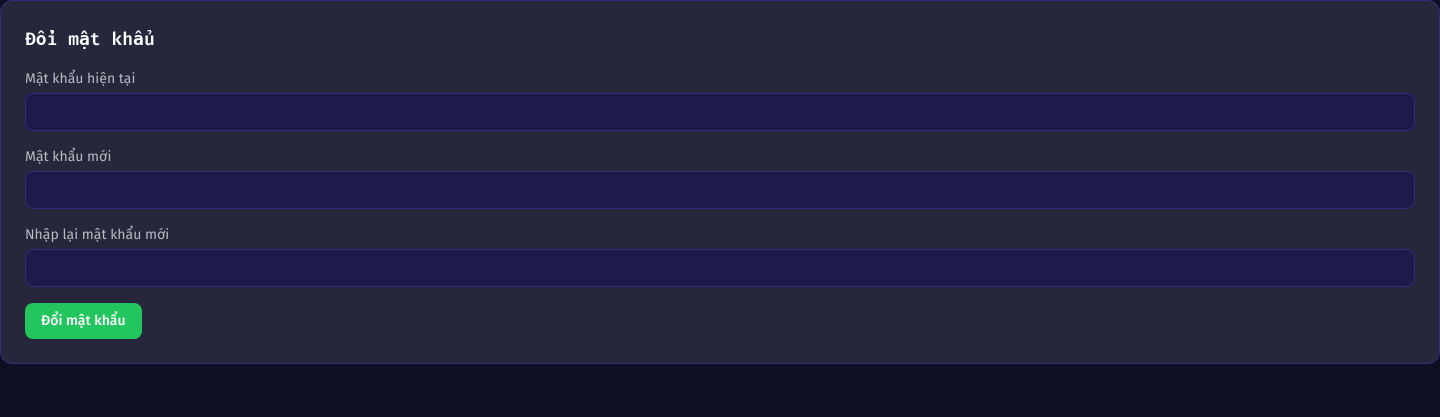
Scenario: PasswordSection › shows the server message for other errors
Type "mat-khau-cu" into the password field labelled "Mật khẩu hiện tại" at (720, 112), box [25,93,1415,131]
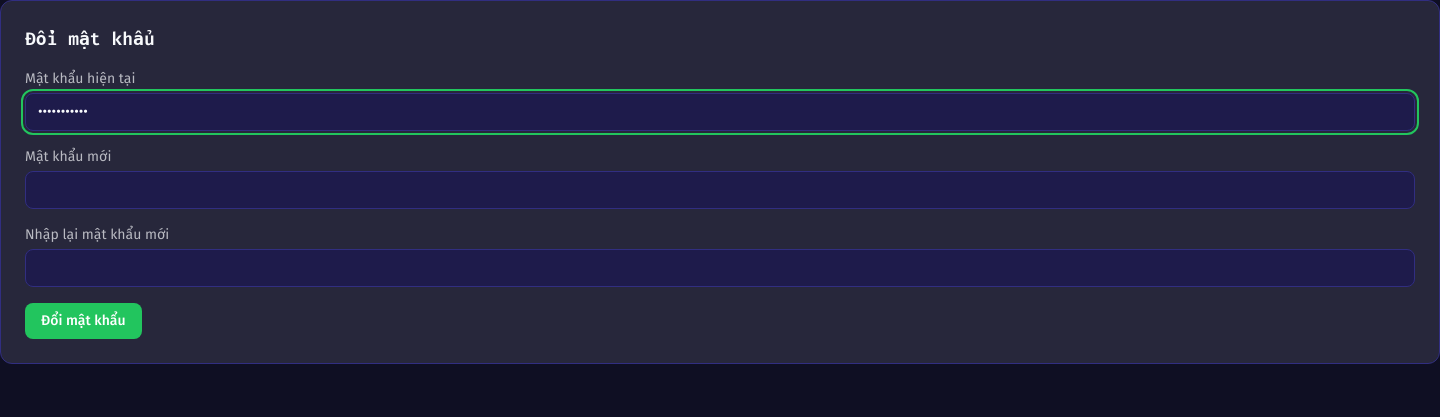
Type "mat-khau-moi-1" into the password field labelled "Mật khẩu mới" at (720, 190), box [25,171,1415,209]
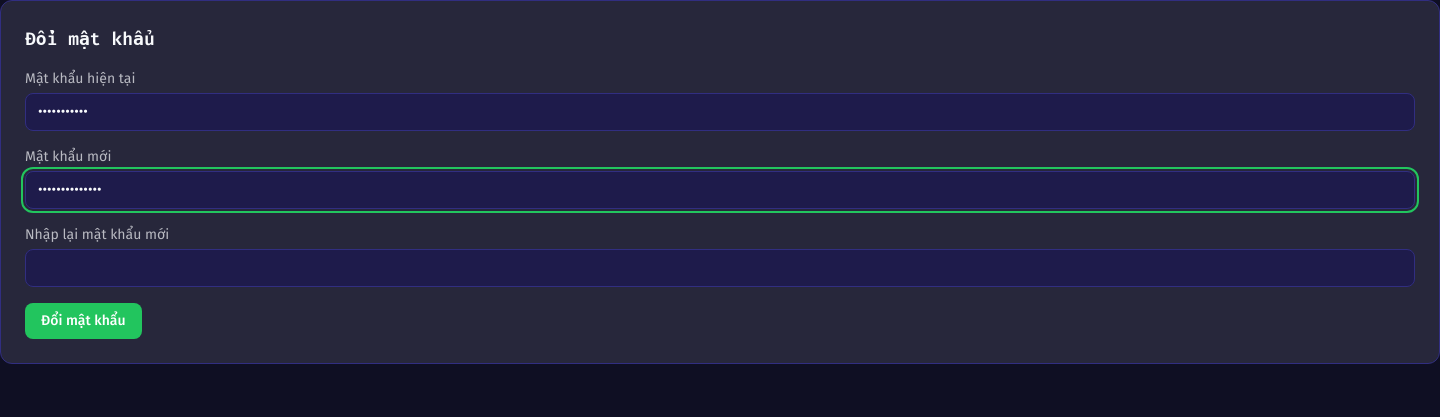
Type "mat-khau-moi-1" into the password field labelled "Nhập lại mật khẩu mới" at (720, 268), box [25,249,1415,287]
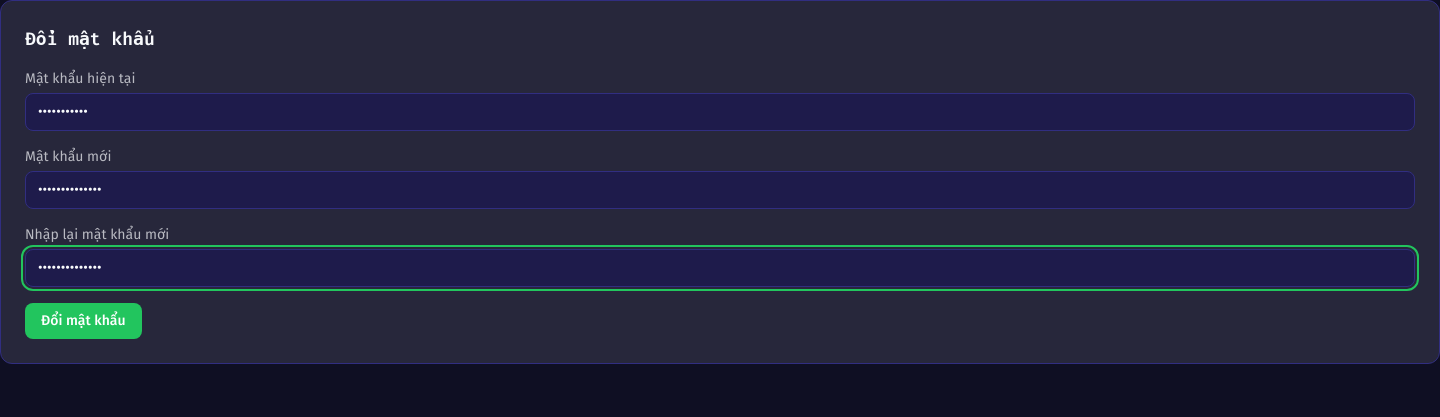
Click the button "Đổi mật khẩu" at (83, 321), box [25,303,142,339]
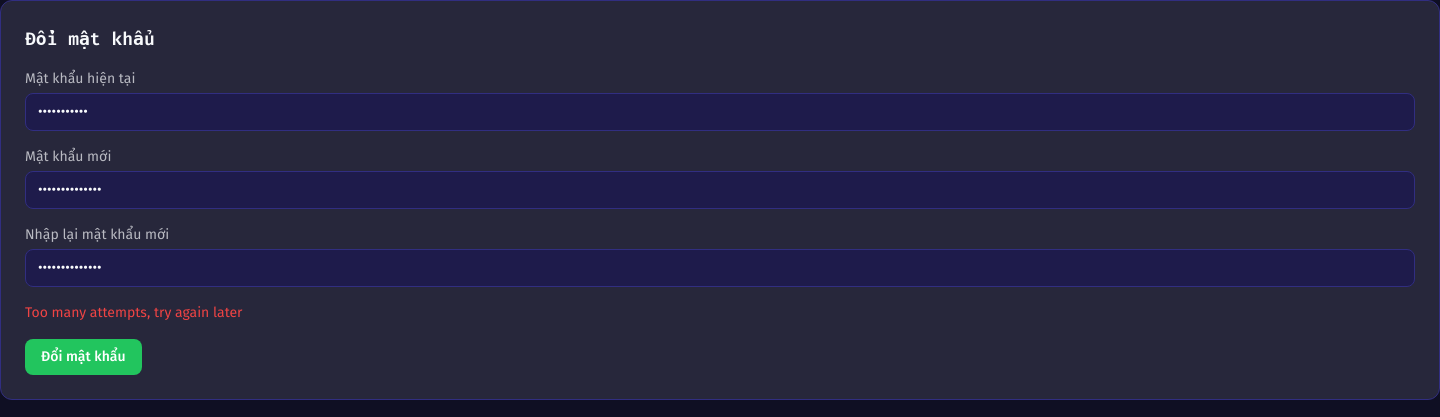
Expected: the message reads "Too many attempts, try again later", [25,304,242,321]
